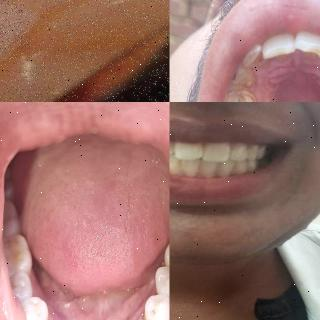cavities: (226, 70, 240, 86)
maligned: (265, 30, 295, 65), (242, 38, 264, 74), (297, 34, 320, 64)
plaque: (230, 90, 258, 102), (241, 70, 259, 88)
